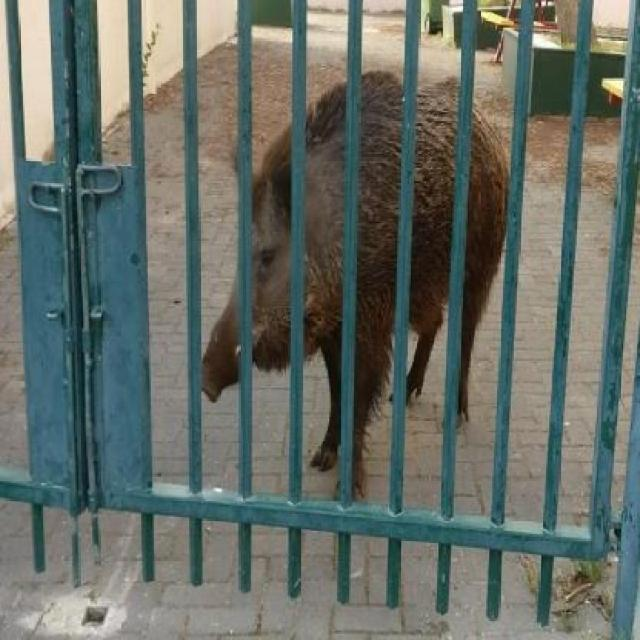wildboar: (194, 61, 515, 516)
